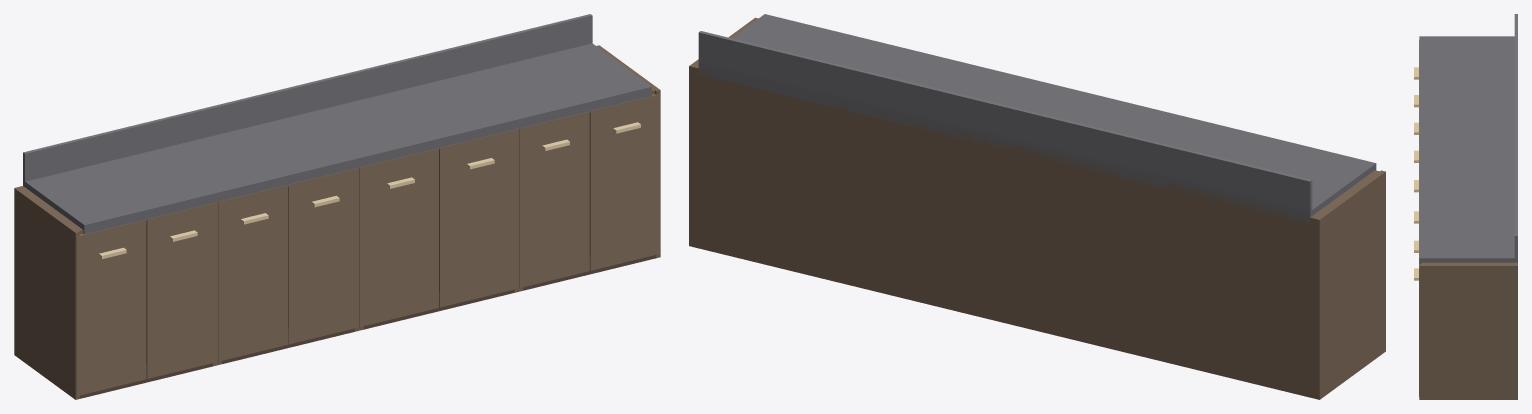
3 renders of one model, left to right at view 1: azimuth 30°, elevation 25°; view 2: azimuth 150°, elevation 25°; view 3: azimuth 270°, elevation 25°, orthographic. The views are drawn at different scales.
Parts seen in each view (by area): view 1: Countertop, Backsplash, Lower_Cabinet_Sink_Door_Right, Lower_Cabinet_Sink_Door_Left, Lower_Cabinet_4_Door_Right, Lower_Cabinet_1_Door_Right, Lower_Cabinet_1_Door_Left, Lower_Cabinet_2_Door_Left, Lower_Cabinet_4_Door_Left, Lower_Cabinet_2_Door_Right, Lower_Cabinet_1_Left_Side, Lower_Cabinet_Sink_Toe_Kick (+3 smaller); view 2: Lower_Cabinet_Sink_Back, Countertop, Lower_Cabinet_1_Back, Lower_Cabinet_2_Back, Lower_Cabinet_4_Back, Backsplash, Lower_Cabinet_1_Left_Side, Lower_Cabinet_Sink_Left_Side, Lower_Cabinet_4_Left_Side, Lower_Cabinet_Sink_Right_Side, Lower_Cabinet_2_Left_Side, Lower_Cabinet_4_Right_Side (+1 smaller); view 3: Countertop, Lower_Cabinet_4_Right_Side, Backsplash, Lower_Cabinet_4_Back, Lower_Cabinet_4_Top, Lower_Cabinet_4_Door_Right.
Part boxes in pixels (x1,y1,x2,y2): Countertop: (23,43,651,234); Backsplash: (23,14,592,181); Lower_Cabinet_Sink_Door_Right: (439,128,518,307); Lower_Cabinet_Sink_Door_Left: (359,148,438,326); Lower_Cabinet_4_Door_Right: (589,94,660,270); Lower_Cabinet_1_Door_Right: (146,202,217,378); Lower_Cabinet_1_Door_Left: (76,219,146,396); Lower_Cabinet_2_Door_Left: (218,185,288,361); Lower_Cabinet_4_Door_Left: (519,111,589,287); Lower_Cabinet_2_Door_Right: (288,167,358,344); Lower_Cabinet_1_Left_Side: (14,187,79,399); Lower_Cabinet_Sink_Toe_Kick: (363,289,514,329); Lower_Cabinet_Sink_Back: (842,105,1013,323); Countertop: (698,14,1376,223); Lower_Cabinet_1_Back: (1167,183,1321,399); Lower_Cabinet_2_Back: (1014,145,1166,362); Lower_Cabinet_4_Back: (689,65,841,282); Backsplash: (698,31,1312,211); Lower_Cabinet_1_Left_Side: (1315,170,1385,399); Lower_Cabinet_Sink_Left_Side: (1009,144,1013,325); Lower_Cabinet_4_Left_Side: (837,102,841,283); Lower_Cabinet_Sink_Right_Side: (842,104,846,284); Lower_Cabinet_2_Left_Side: (1162,182,1166,361); Lower_Cabinet_4_Right_Side: (689,17,758,246); Countertop: (1419,36,1517,264); Lower_Cabinet_4_Right_Side: (1419,264,1517,399); Backsplash: (1514,14,1517,258); Lower_Cabinet_4_Back: (1513,262,1517,399); Lower_Cabinet_4_Top: (1421,262,1515,264); Lower_Cabinet_4_Door_Right: (1419,242,1419,396).
Bounding box in the file's own units: 3.3 × 1.08 × 0.6325.
